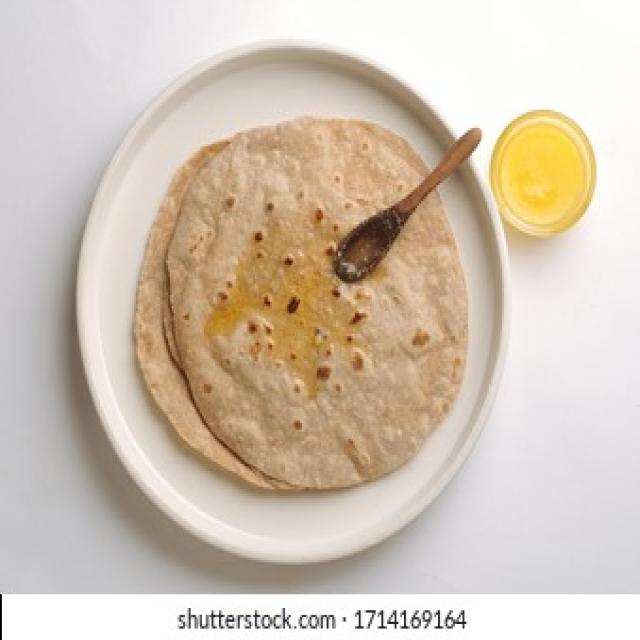ROTI: (157, 117, 464, 485)
